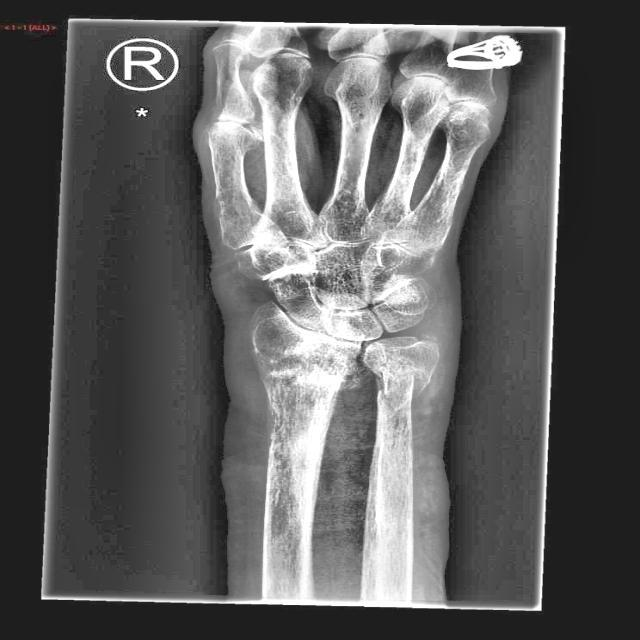fracture: (373, 364, 428, 408)
